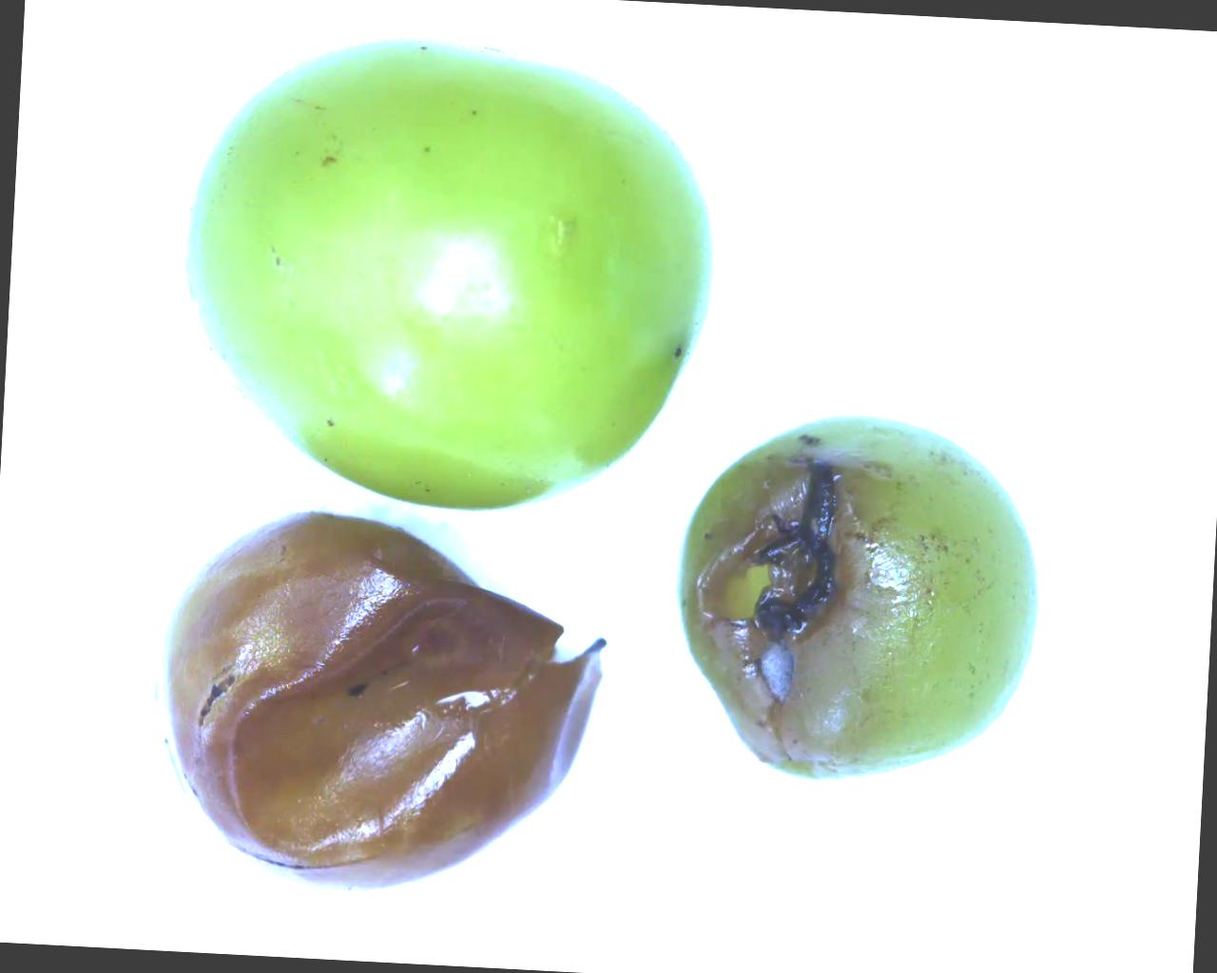Grape Rotten: (142, 497, 614, 904), (664, 401, 1049, 792)
Grape Unripe: (167, 20, 726, 524)
